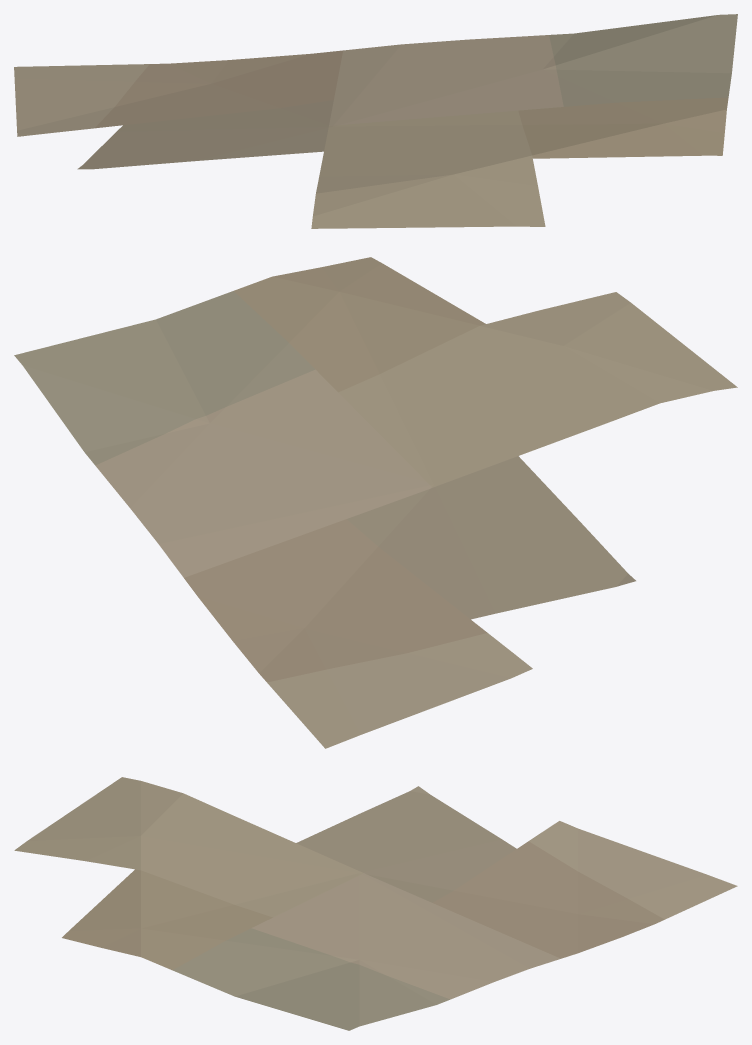
The model's file is farm_-2_4_soil.glb.
3 renders of one model, top to bottom at view 1: azimuth 30°, elevation 25°; view 2: azimuth 150°, elevation 25°; view 3: azimuth 270°, elevation 25°, orthographic. The views are drawn at different scales.
Visible parts, largest first — view 1: geometry_0; view 2: geometry_0; view 3: geometry_0.
Part boxes in pixels (x1,y1,x2,y2): geometry_0: (14,14,737,228); geometry_0: (14,257,737,748); geometry_0: (14,777,737,1030).
Bounding box in the file's own units: 237 × 39.54 × 265.
